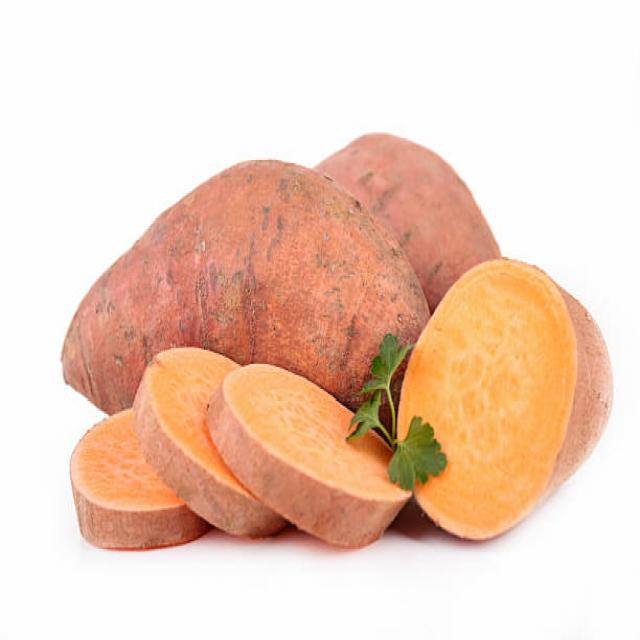Sweet Potato: (57, 156, 391, 336), (443, 254, 612, 520)
